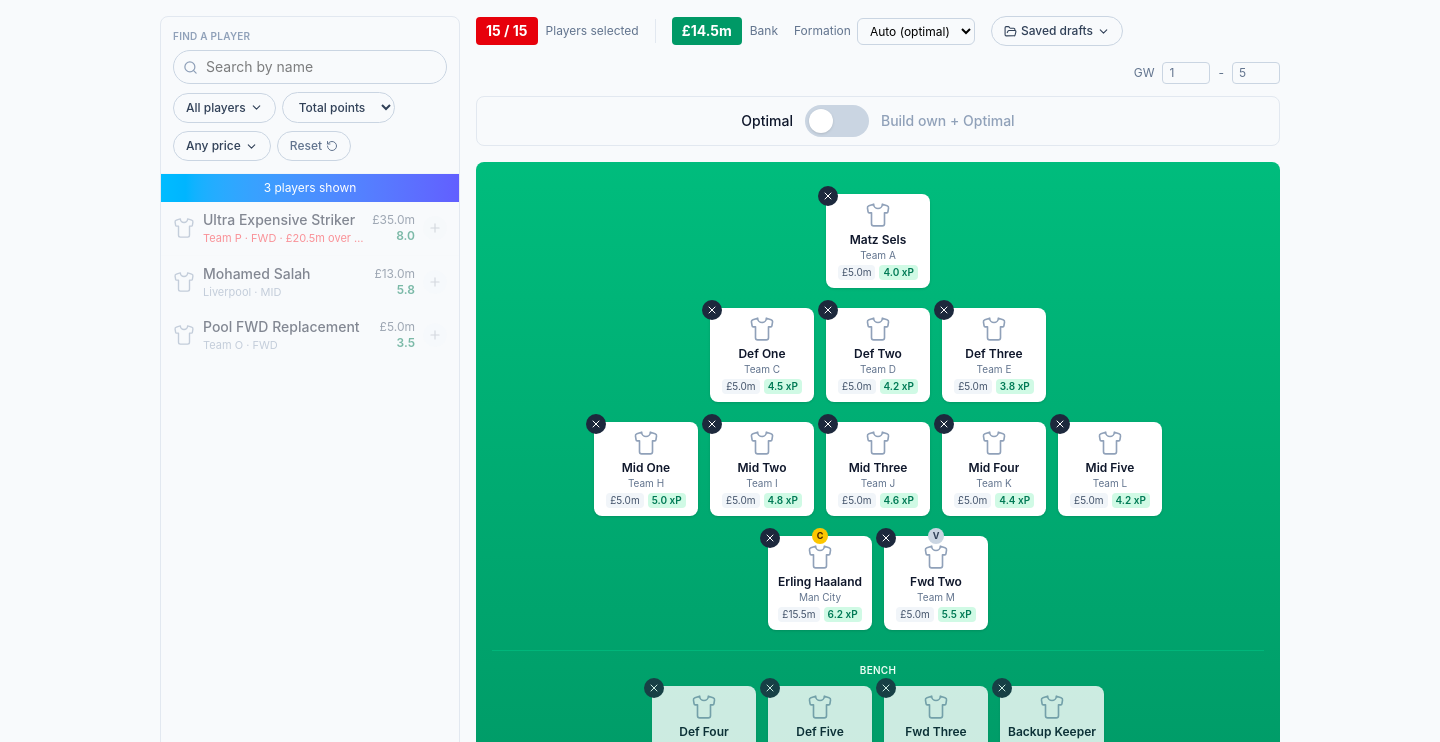
Test: SquadBuilder › in lock mode, manually adding a player via the sidebar locks them automatically
What coordinates should you click on to do the following:
click the button named "Remove Erling Haaland"
I would click on:
 (770, 538)
Its box is [760,528,780,548].
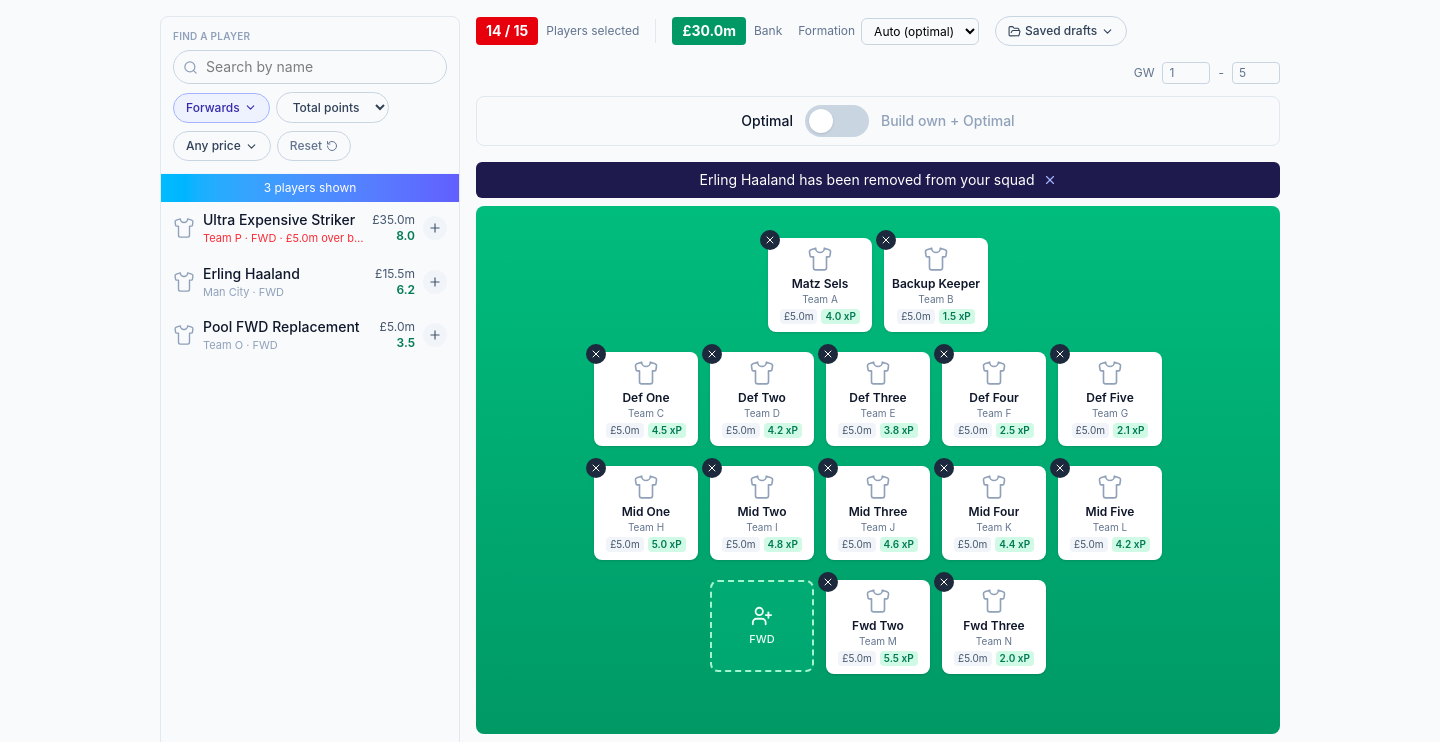
What coordinates should you click on to do the following:
click the switch named "toggle lock mode"
I would click on:
 (837, 121)
Its box is [805,105,869,137].
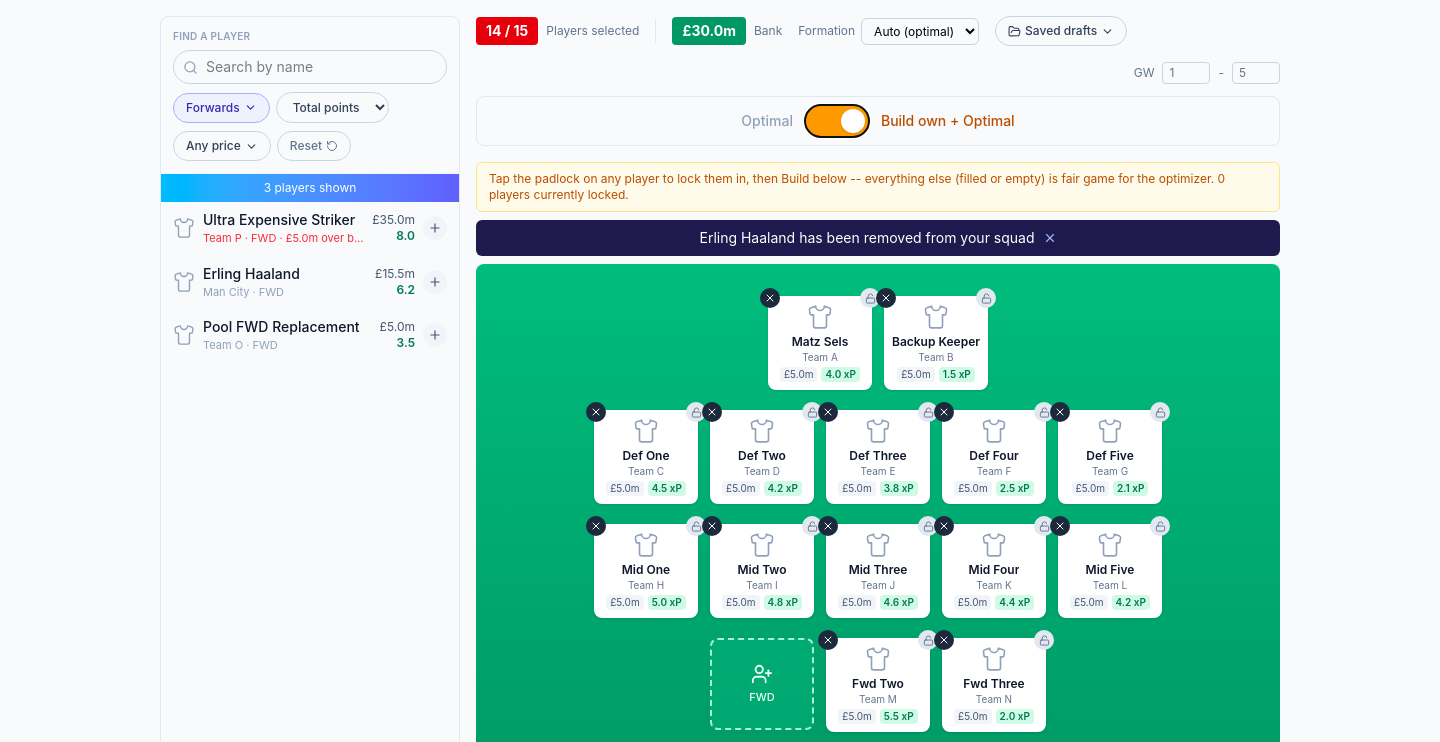
What coordinates should you click on to do the following:
click the button named "Add Pool FWD Replacement"
I would click on:
 (435, 335)
Its box is [423,323,447,347].
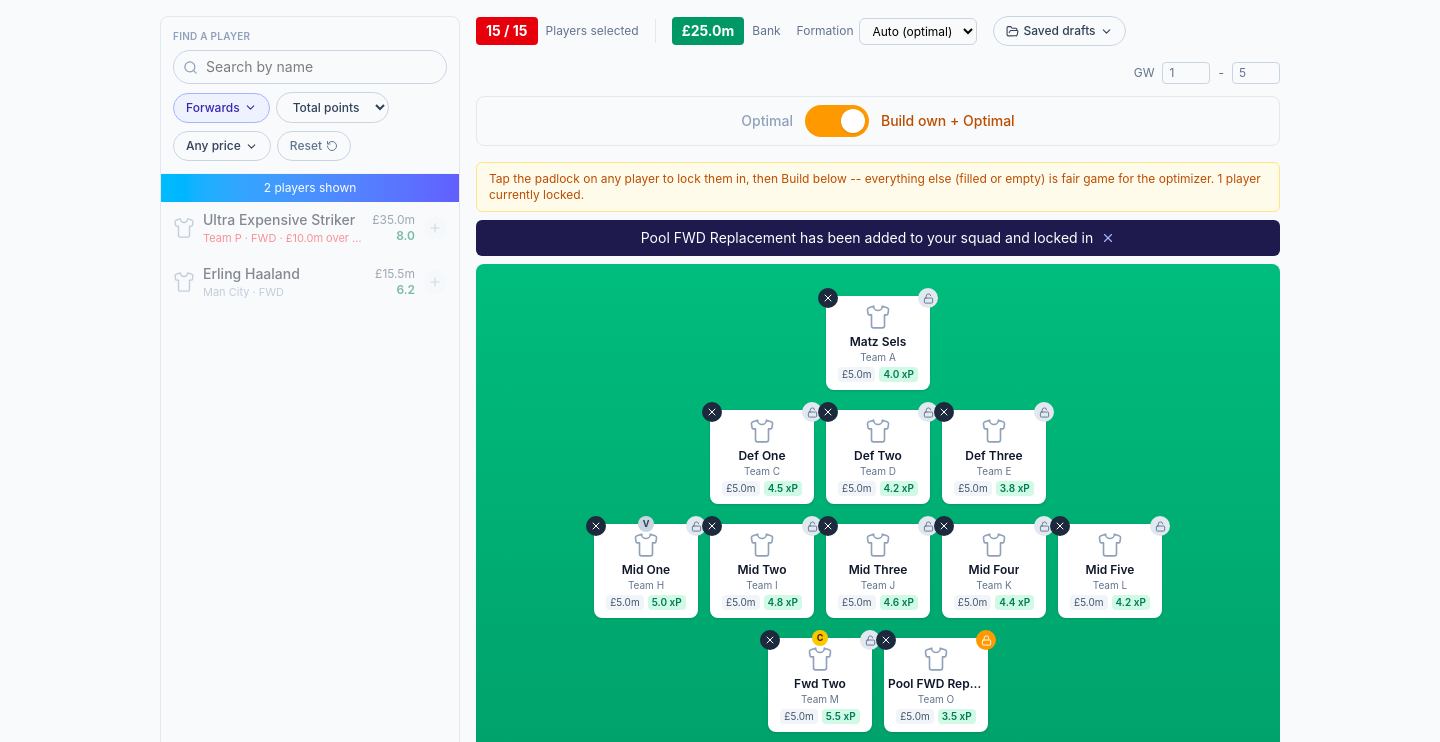
Result: the text "Pool FWD Replacement has been added to your squad and locked in" is shown at [476,220,1280,256]
Result: the button named "Unlock Pool FWD Replacement" is shown at [976,630,996,650]
Result: the text "1 player currently locked" is shown at [476,162,1280,212]
